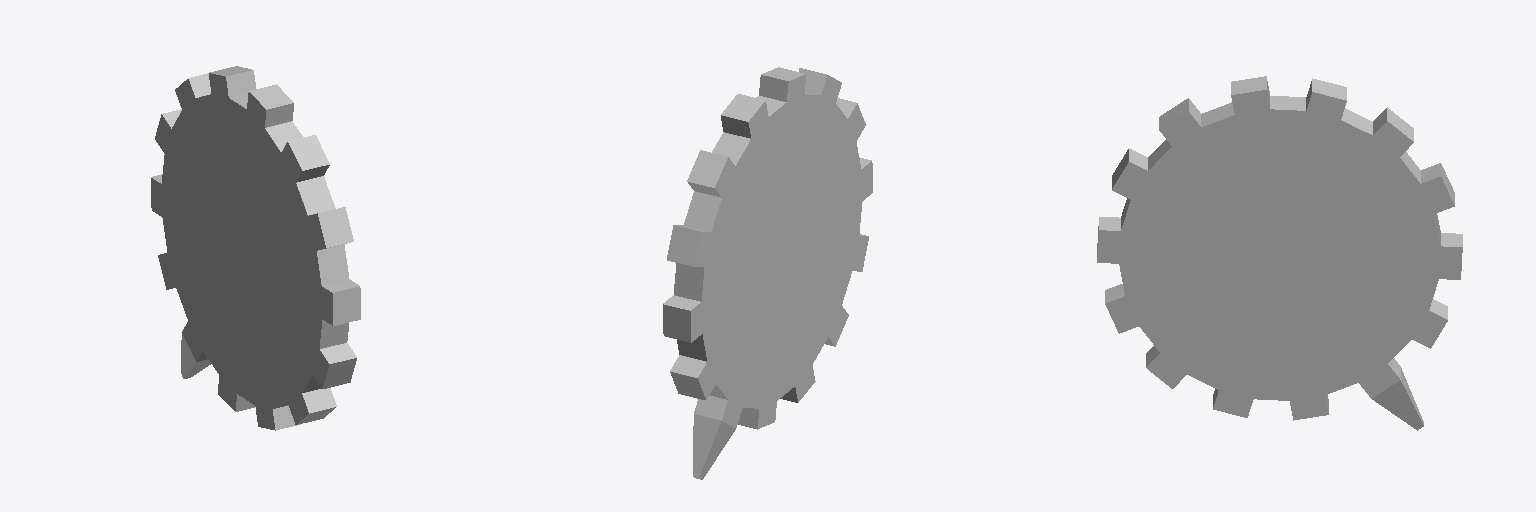
File: gear_000013.obj
3 views of the same model, side by side, from view 1: azimuth 30°, elevation 25°; view 2: azimuth 150°, elevation 25°; view 3: azimuth 270°, elevation 25° (orthographic).
Visible parts, largest first — view 1: gear_Cylinder.001; view 2: gear_Cylinder.001; view 3: gear_Cylinder.001.
Part boxes in pixels (left/top/right/bottom): gear_Cylinder.001: left=151, top=66, right=360, bottom=430; gear_Cylinder.001: left=663, top=67, right=872, bottom=479; gear_Cylinder.001: left=1097, top=76, right=1462, bottom=430.
Bounding box in the file's own units: 0.1 × 1.18 × 1.13.